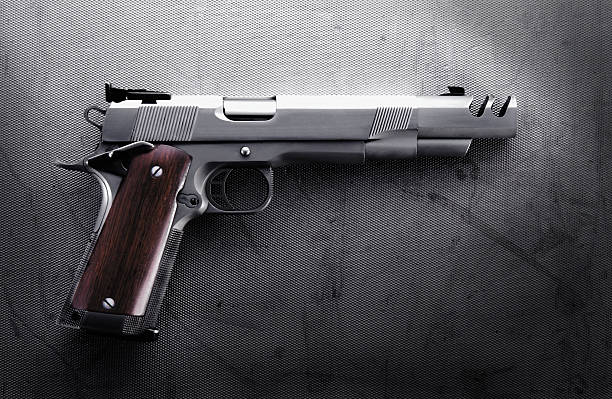pistol: (58, 76, 525, 341)
